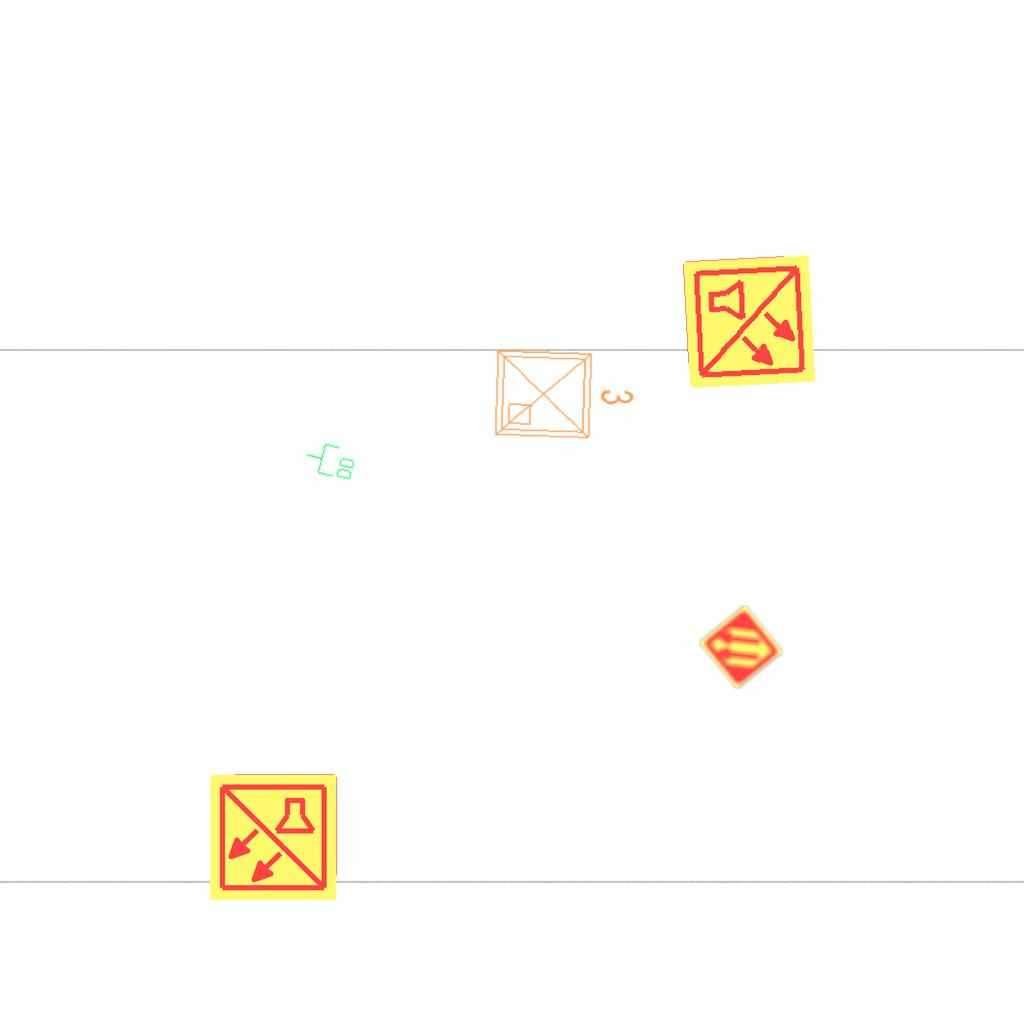ASR_Ansaugrauchmelder: (697, 603, 785, 691)
Datenanschluss_zweifach: (301, 438, 360, 484)
Einbaudownlights_LED_Konferenzraeume: (487, 338, 641, 448)
OKW_Multisensormelder_(Kombination_optischer_Rauch-Kahlenmonoxid_Waerme-Melder): (679, 252, 819, 392), (207, 771, 339, 903)
